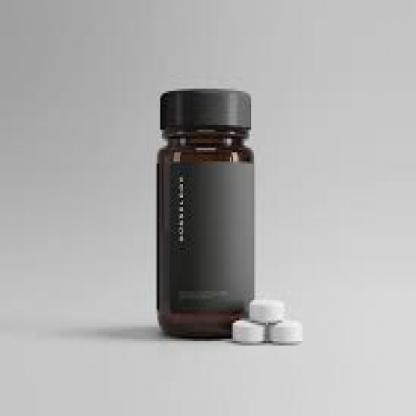jar: (156, 89, 255, 338)
